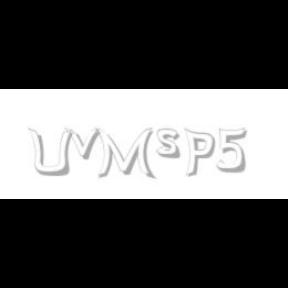5: (216, 128, 248, 174)
M: (94, 128, 154, 180)
P: (183, 128, 215, 178)
U: (28, 128, 72, 178)
s: (157, 128, 185, 160)
v: (64, 128, 104, 160)
